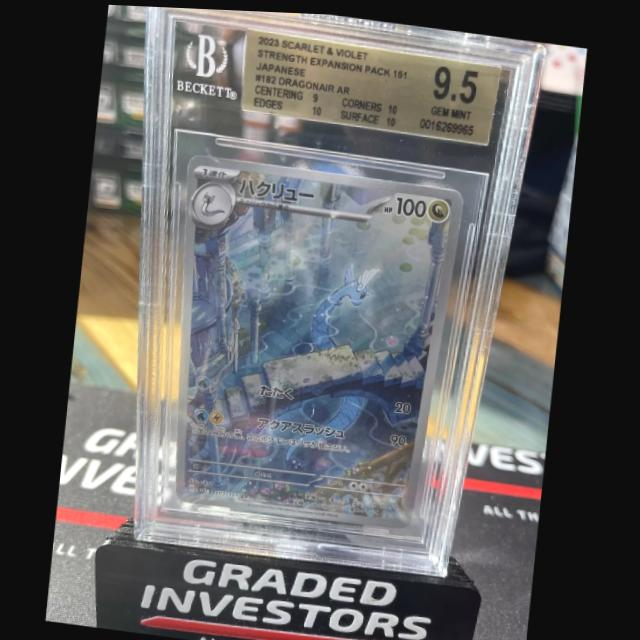bgs_label: (239, 26, 500, 141)
bgs_slab: (133, 5, 547, 573)
card: (174, 150, 466, 527)
